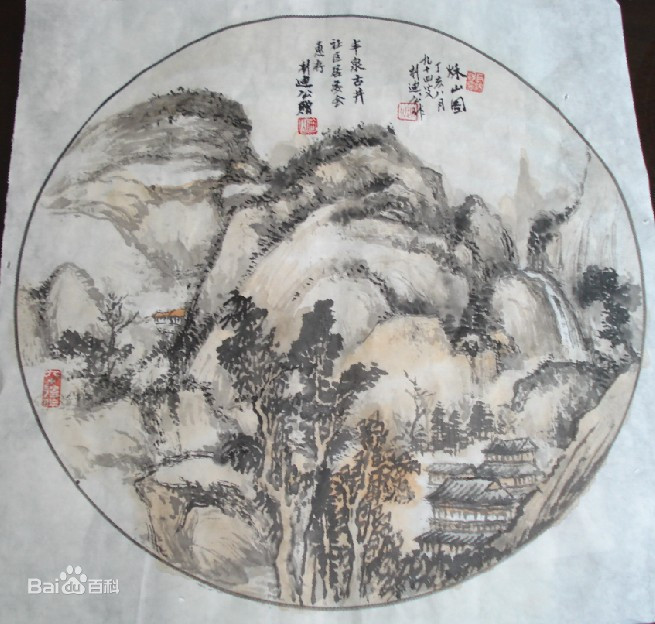booth: (152, 308, 192, 325)
hill: (87, 87, 520, 275)
house: (415, 436, 538, 545)
tree: (222, 293, 405, 601), (400, 380, 498, 452), (574, 265, 641, 362), (100, 292, 135, 378)
waterfall: (521, 265, 585, 356)
